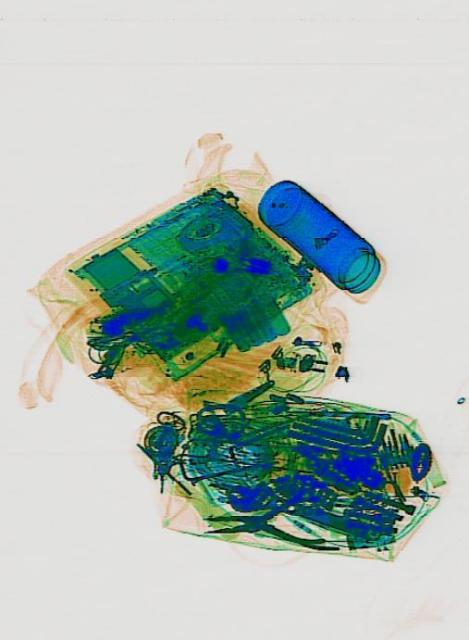Pliers: (201, 482, 336, 558)
